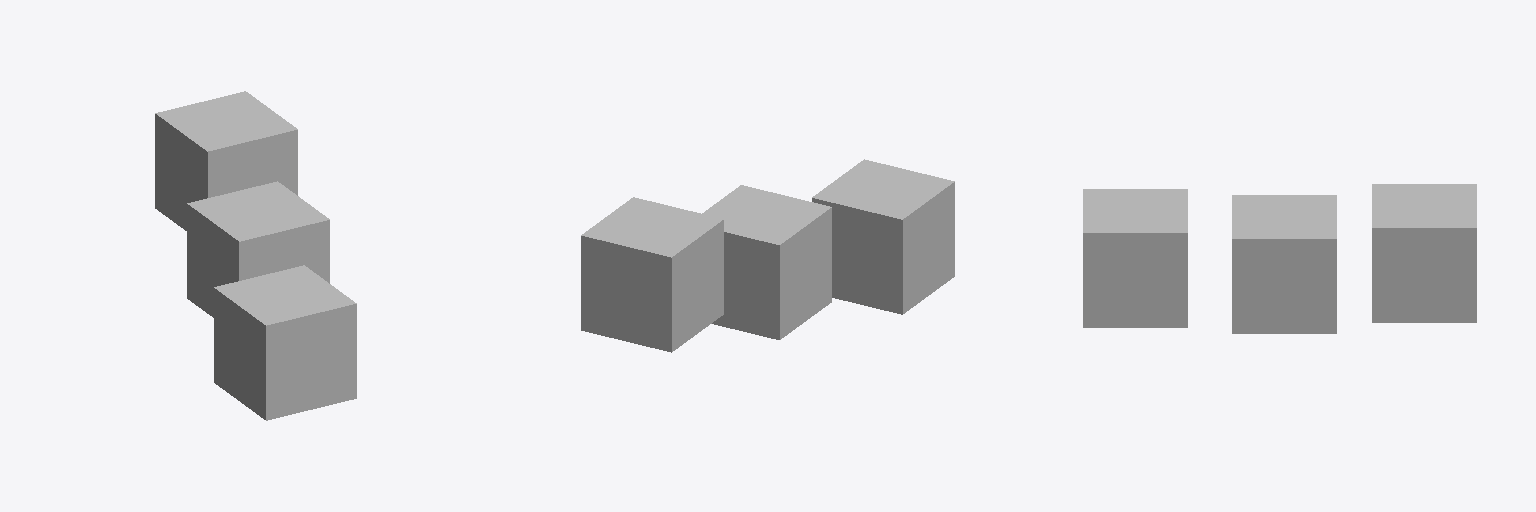
File: 3cubes.obj
3 renders of one model, left to right at view 1: azimuth 30°, elevation 25°; view 2: azimuth 150°, elevation 25°; view 3: azimuth 270°, elevation 25°, orthographic.
Parts seen in each view (by area): view 1: Cube.002_Cube.001, Cube.001_Cube, Cube; view 2: Cube.001_Cube, Cube.002_Cube.001, Cube; view 3: Cube.002_Cube.001, Cube.001_Cube, Cube.
Boxes of the visible parts, x1=… form: Cube.002_Cube.001: x1=214, y1=265, x2=356, y2=420; Cube.001_Cube: x1=155, y1=91, x2=297, y2=230; Cube: x1=187, y1=181, x2=329, y2=317; Cube.001_Cube: x1=581, y1=197, x2=723, y2=352; Cube.002_Cube.001: x1=812, y1=159, x2=954, y2=314; Cube: x1=702, y1=185, x2=831, y2=339; Cube.002_Cube.001: x1=1083, y1=189, x2=1187, y2=327; Cube.001_Cube: x1=1372, y1=184, x2=1476, y2=322; Cube: x1=1232, y1=195, x2=1336, y2=333.
Size of the model in its own units: 3.9 by 2.99 by 7.52.